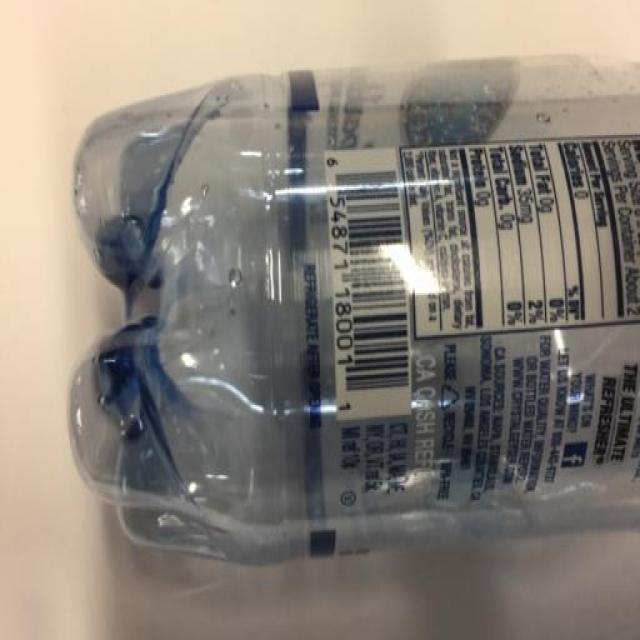plastic_bottle: (77, 71, 640, 576)
